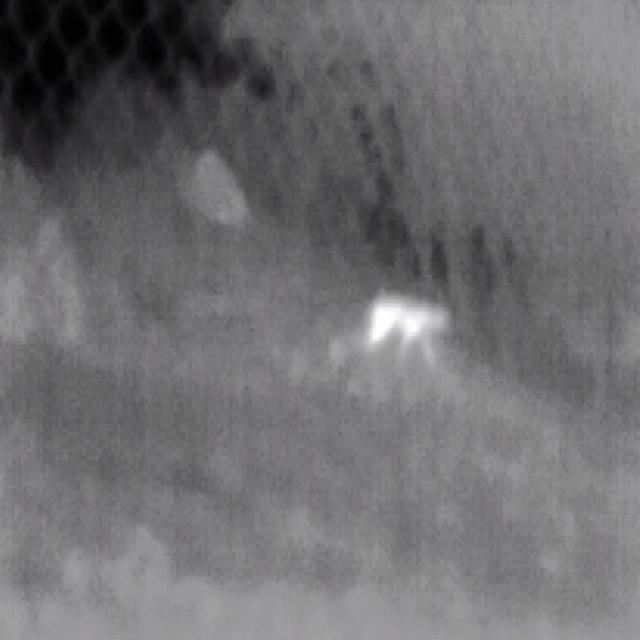cheetah: (368, 292, 452, 371)
